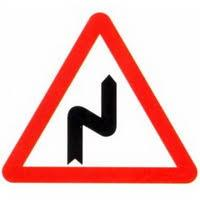double_bend_right: (0, 11, 198, 184)
